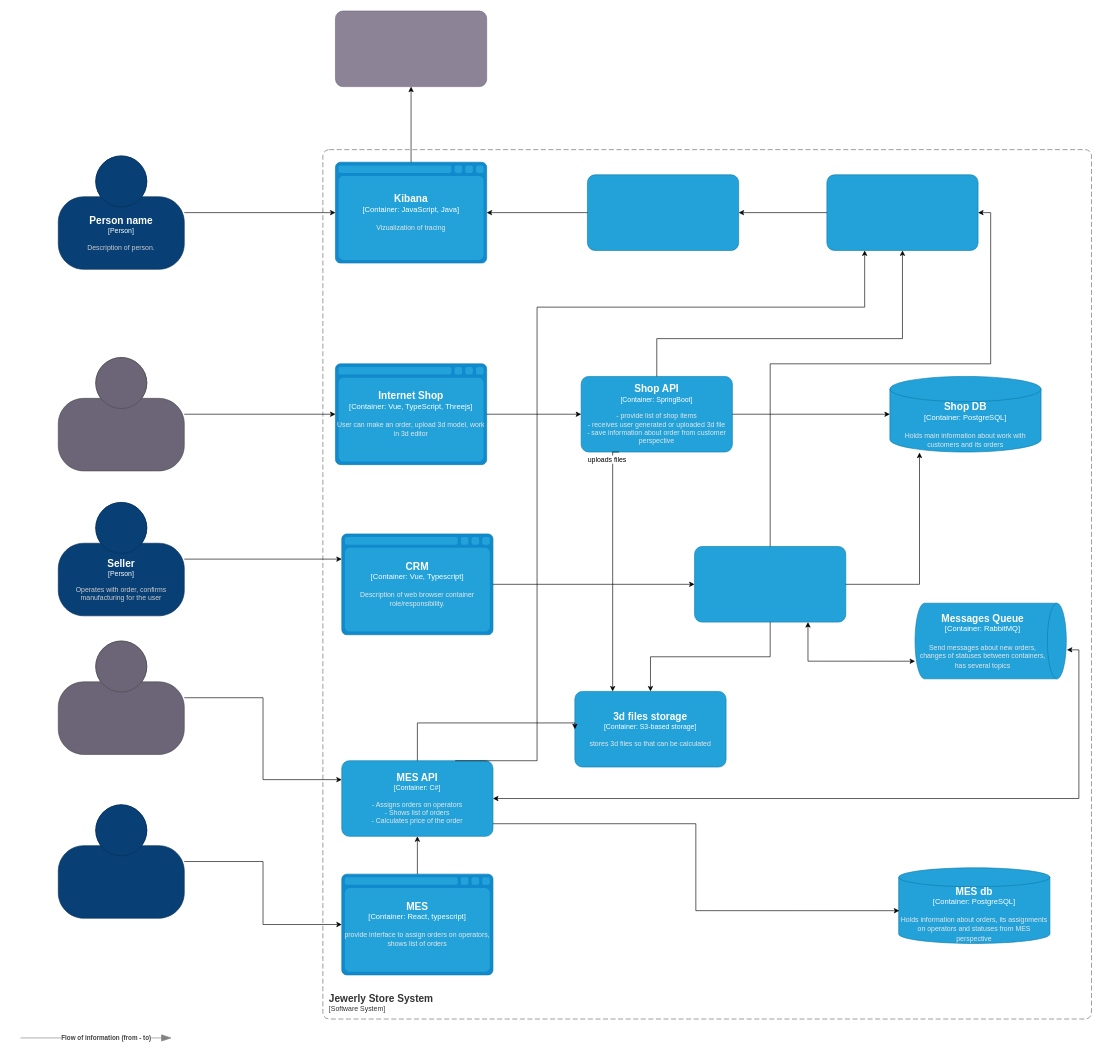
The diagram is 1103 pixels wide and 1059 high, and some of its shapes have lost their labels. Here are the shapes that lost their labels. From the top down, the centre of each, then its label:
(x=411, y=48): Telegram\Slack [Software System] Massanger for alerts
(x=663, y=212): APM Server [Container: Java] Collect tracing info
(x=902, y=212): APM Agent [Container: Java] Collect tracing info
(x=121, y=414): Customer [Person] Description of external person.
(x=770, y=584): CRM API [Container: SpringBoot] Description of container role/responsibility.
(x=121, y=697): API user [Person] Description of external person.
(x=121, y=861): Operator [Person] Takes order in work, manufactures jewerly
